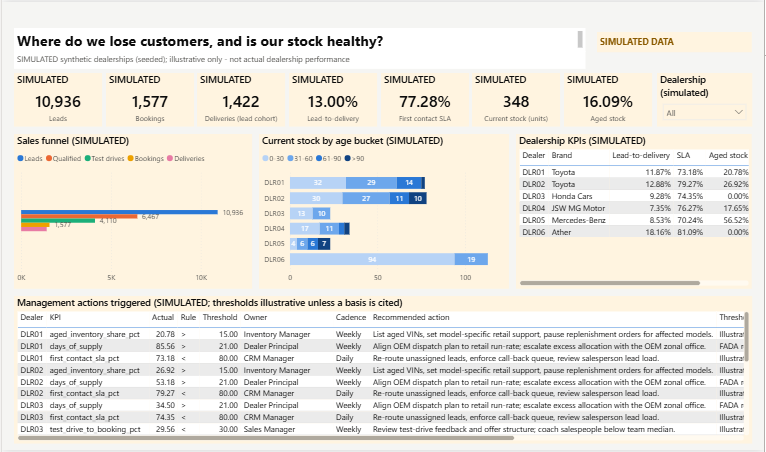

Layout of this report page (visuals, bound fields, positions):
{"tool":"powerbi","page":{"name":"Dealership Operations (Simulated)","canvas":[1280,720],"ordinal":4},"visuals":[{"type":"textbox","box":[20,10,960,40],"z":1000},{"type":"textbox","box":[20,48,960,30],"z":2000},{"type":"textbox","box":[1000,16,260,34],"z":3000},{"type":"card","title":"SIMULATED","fields":{"Values":["_Measures.Leads"]},"box":[20,86,148,90],"z":4000},{"type":"card","title":"SIMULATED","fields":{"Values":["_Measures.Bookings"]},"box":[174,86,148,90],"z":5000},{"type":"card","title":"SIMULATED","fields":{"Values":["_Measures.Deliveries (Lead Cohort)"]},"box":[328,86,148,90],"z":6000},{"type":"card","title":"SIMULATED","fields":{"Values":["_Measures.Lead to Delivery %"]},"box":[482,86,148,90],"z":7000},{"type":"card","title":"SIMULATED","fields":{"Values":["_Measures.First Contact SLA %"]},"box":[636,86,148,90],"z":8000},{"type":"card","title":"SIMULATED","fields":{"Values":["_Measures.Current Inventory Units"]},"box":[790,86,148,90],"z":9000},{"type":"card","title":"SIMULATED","fields":{"Values":["_Measures.Aged Inventory %"]},"box":[944,86,148,90],"z":10000},{"type":"slicer","title":"Dealership (simulated)","fields":{"Values":["DimDealership.DealershipName"]},"box":[1100,86,160,90],"z":11000},{"type":"clusteredBarChart","title":"Sales funnel (SIMULATED)","fields":{"Y":["_Measures.Leads","_Measures.Qualified Leads","_Measures.Test Drives","_Measures.Bookings","_Measures.Deliveries (Lead Cohort)"]},"box":[20,188,400,260],"z":12000},{"type":"barChart","title":"Current stock by age bucket (SIMULATED)","fields":{"Category":["DimDealership.DealershipId"],"Series":["FactInventorySnapshot.AgeingBucket"],"Y":["_Measures.Current Inventory Units"]},"box":[432,188,420,260],"z":13000},{"type":"tableEx","title":"Dealership KPIs (SIMULATED)","fields":{"Values":["DimDealership.DealershipId","DimDealership.Brand","_Measures.Lead to Delivery %","_Measures.First Contact SLA %","_Measures.Aged Inventory %","_Measures.Days of Supply"]},"box":[864,188,396,260],"z":14000},{"type":"tableEx","title":"Management actions triggered (SIMULATED; thresholds illustrative unless a basis is cited)","fields":{"Values":["FactActionTrigger.DealershipId","FactActionTrigger.Kpi","FactActionTrigger.ActualValue","FactActionTrigger.Comparator","FactActionTrigger.Threshold","FactActionTrigger.ResponsibleRole","FactActionTrigger.ReviewCadence","FactActionTrigger.RecommendedAction","FactActionTrigger.ThresholdBasis"]},"box":[20,460,1240,248],"z":15000}]}

Visuals, with their boxes on the page's 1280x720 design canvas (x1, y1, x2, y2). These are canvas units, not pixel positions in the 766x452 screenshot, which may show the page scaled, cropped or inside an application window:
textbox: [x1=20, y1=10, x2=980, y2=50]
textbox: [x1=20, y1=48, x2=980, y2=78]
textbox: [x1=1000, y1=16, x2=1260, y2=50]
"SIMULATED" card: [x1=20, y1=86, x2=168, y2=176]
"SIMULATED" card: [x1=174, y1=86, x2=322, y2=176]
"SIMULATED" card: [x1=328, y1=86, x2=476, y2=176]
"SIMULATED" card: [x1=482, y1=86, x2=630, y2=176]
"SIMULATED" card: [x1=636, y1=86, x2=784, y2=176]
"SIMULATED" card: [x1=790, y1=86, x2=938, y2=176]
"SIMULATED" card: [x1=944, y1=86, x2=1092, y2=176]
"Dealership (simulated)" slicer: [x1=1100, y1=86, x2=1260, y2=176]
"Sales funnel (SIMULATED)" clusteredBarChart: [x1=20, y1=188, x2=420, y2=448]
"Current stock by age bucket (SIMULATED)" barChart: [x1=432, y1=188, x2=852, y2=448]
"Dealership KPIs (SIMULATED)" tableEx: [x1=864, y1=188, x2=1260, y2=448]
"Management actions triggered (SIMULATED; thresholds illustrative unless a basis is cited)" tableEx: [x1=20, y1=460, x2=1260, y2=708]
